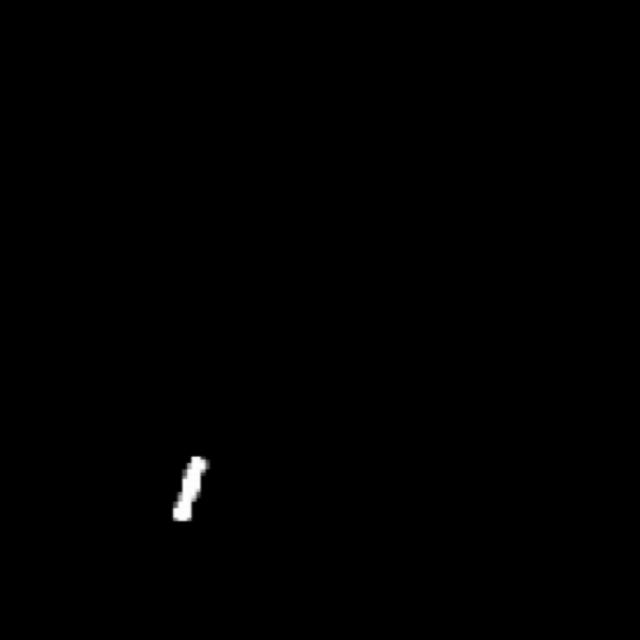one -1-: (144, 438, 241, 543)
